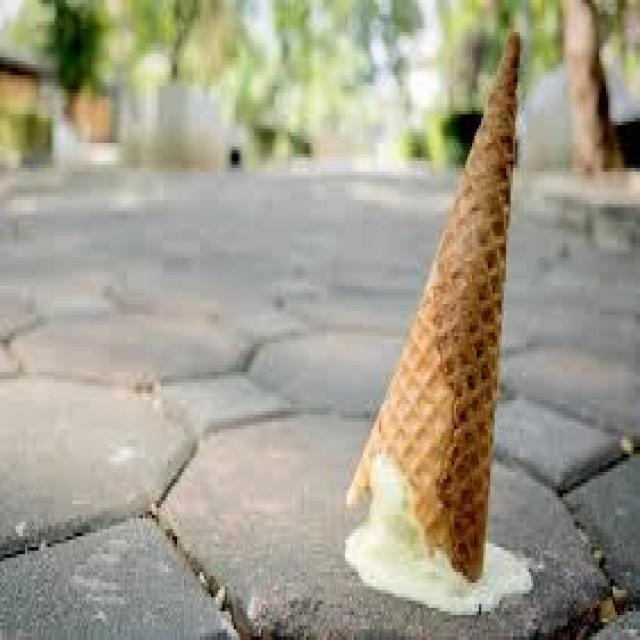thucan: (345, 33, 532, 614)
